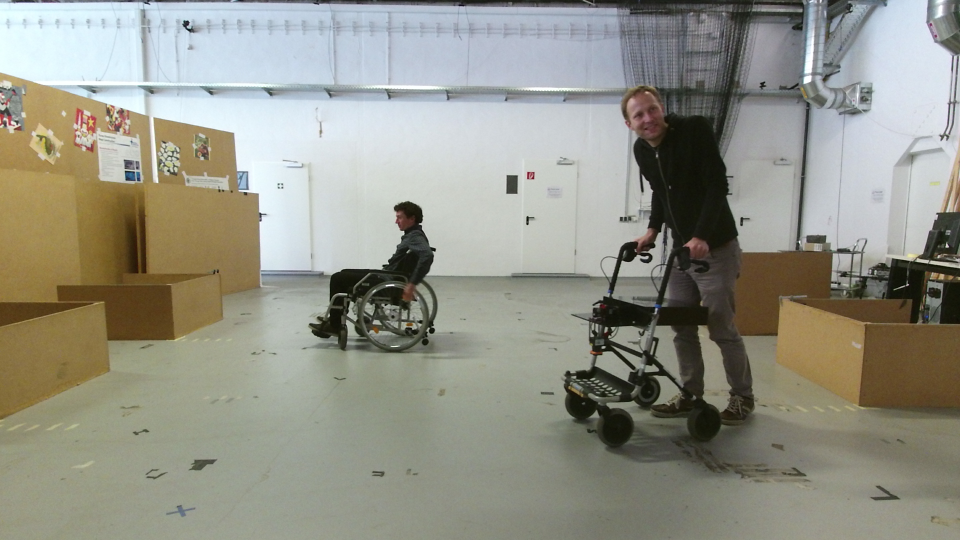wheelchair: (314, 196, 454, 354)
